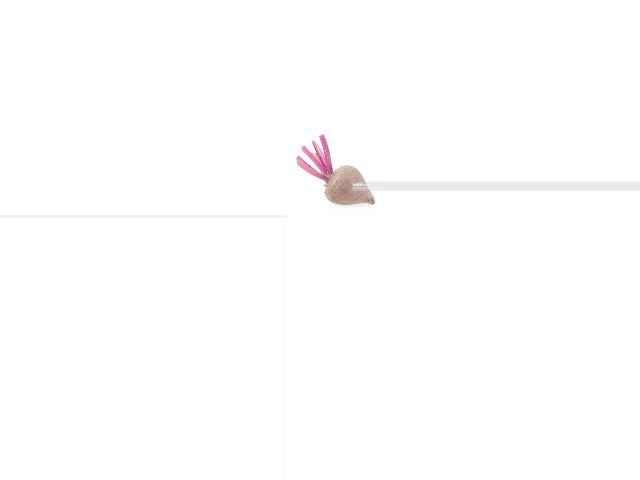beet: (296, 134, 375, 205)
